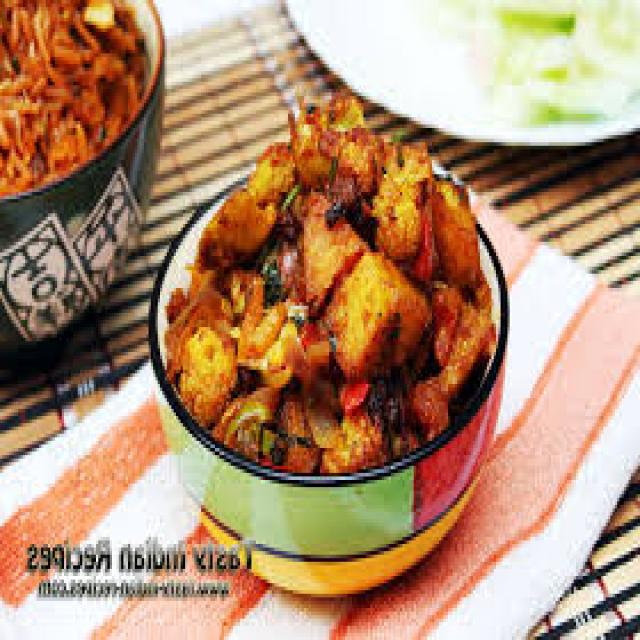Aloo Gobi: (178, 112, 481, 477)
